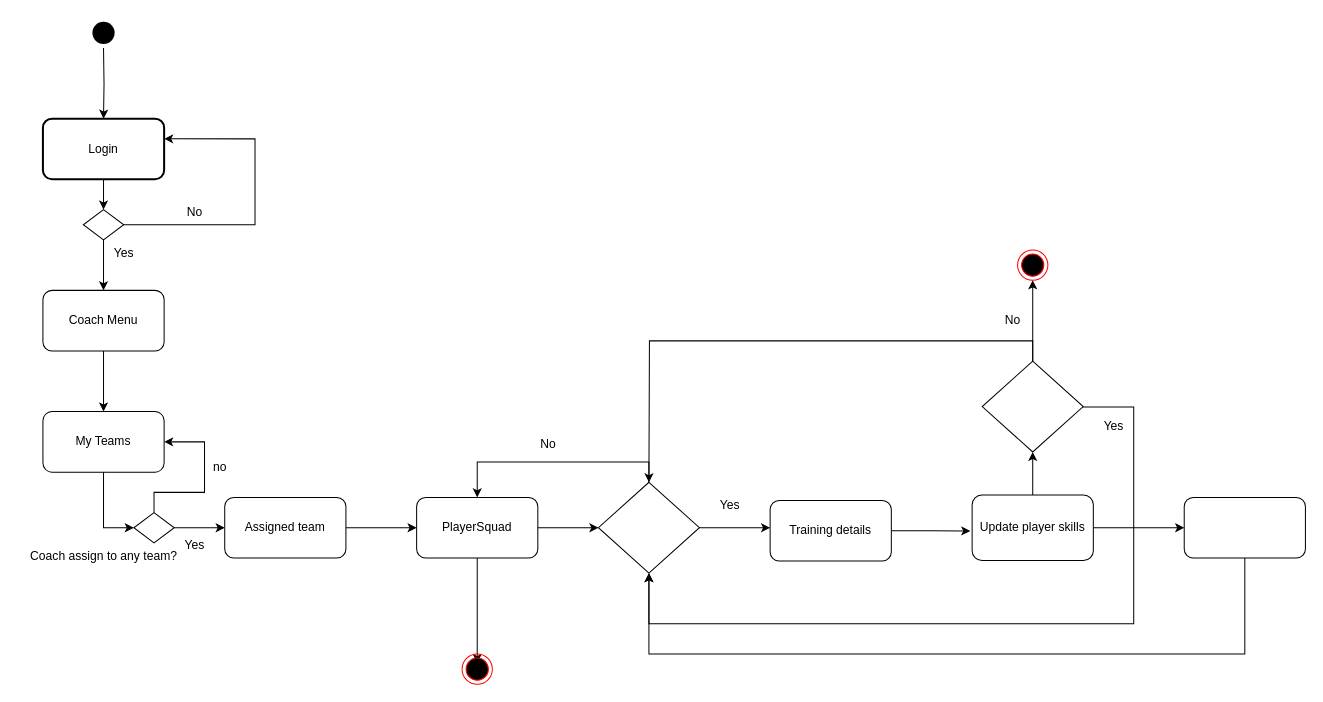
Some shapes in this 1323 by 702 pixel diagram are drawn without their labels. The box of each missing label's shape, as (x1, y1, x2, y2) in pixels:
Change another player?: (981, 360, 1083, 452)
Choose player: (597, 481, 699, 573)
Save Skills: (1183, 496, 1305, 558)
